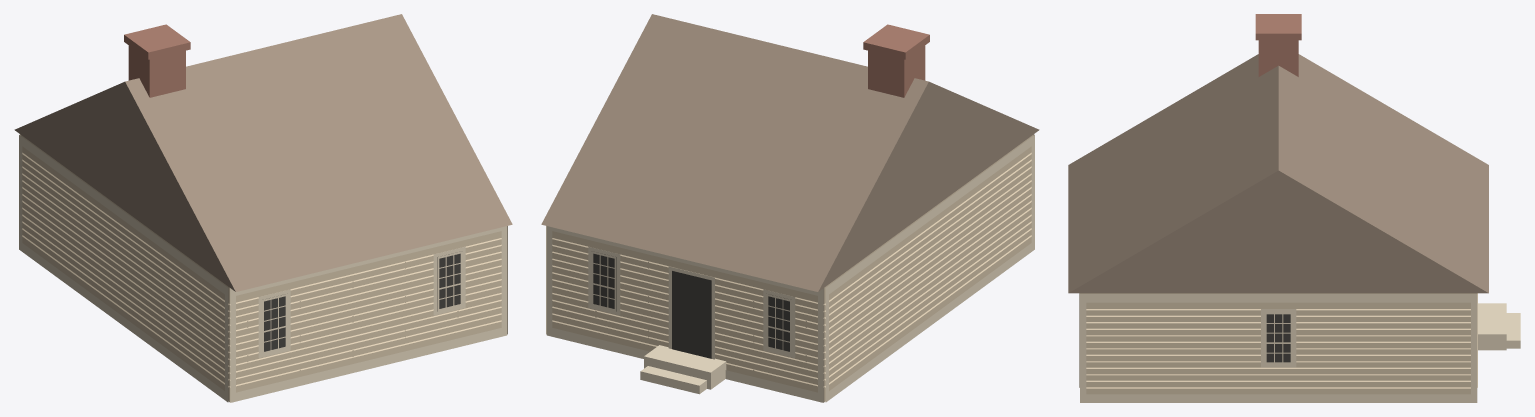
The model's file is recon_1835_blk_school_section_tier_95_d4_05__inferred_1835.glb.
3 renders of one model, left to right at view 1: azimuth 30°, elevation 25°; view 2: azimuth 150°, elevation 25°; view 3: azimuth 270°, elevation 25°, orthographic. The views are drawn at different scales.
Visible parts, largest first — view 1: recon_1835_blk_school_section_tier_95_d4_05__inferred_1835; view 2: recon_1835_blk_school_section_tier_95_d4_05__inferred_1835; view 3: recon_1835_blk_school_section_tier_95_d4_05__inferred_1835.
Boxes of the visible parts, left/top/right/bottom form: recon_1835_blk_school_section_tier_95_d4_05__inferred_1835: left=14, top=14, right=512, bottom=402; recon_1835_blk_school_section_tier_95_d4_05__inferred_1835: left=541, top=14, right=1039, bottom=402; recon_1835_blk_school_section_tier_95_d4_05__inferred_1835: left=1068, top=14, right=1520, bottom=402.
Size of the model in its own units: 6.51 by 6.19 by 9.58.
